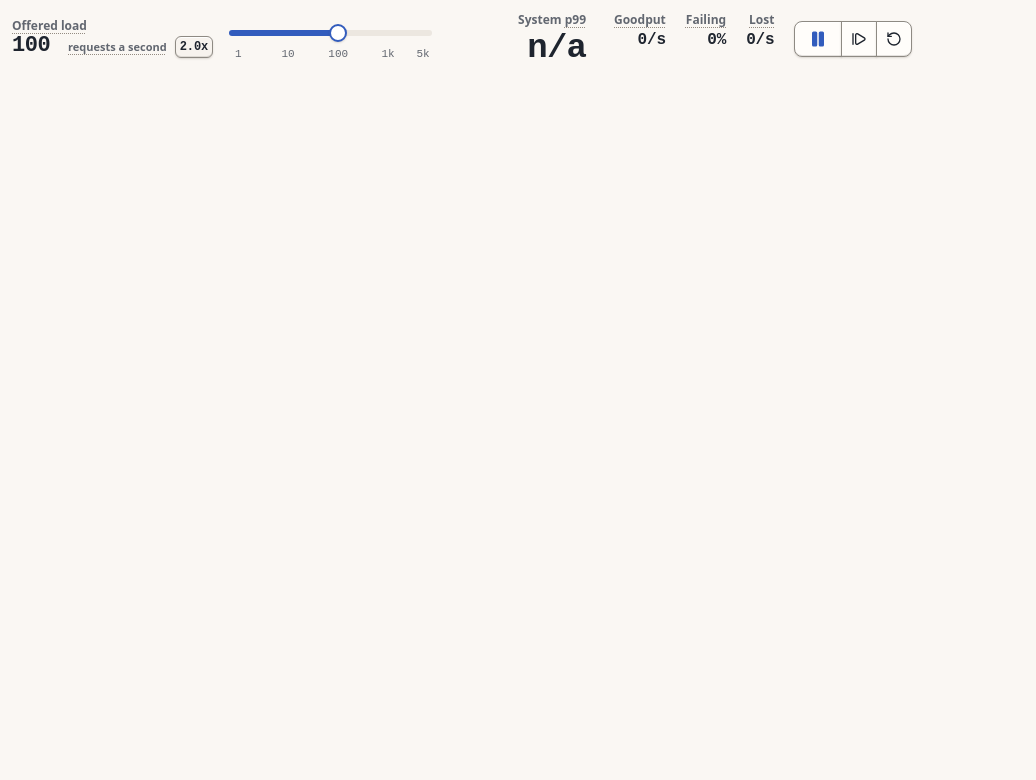
Test: load as a multiple › closes on a press outside, and on Escape
Click the button "2.0x": [194, 47] box [175,36,213,58]
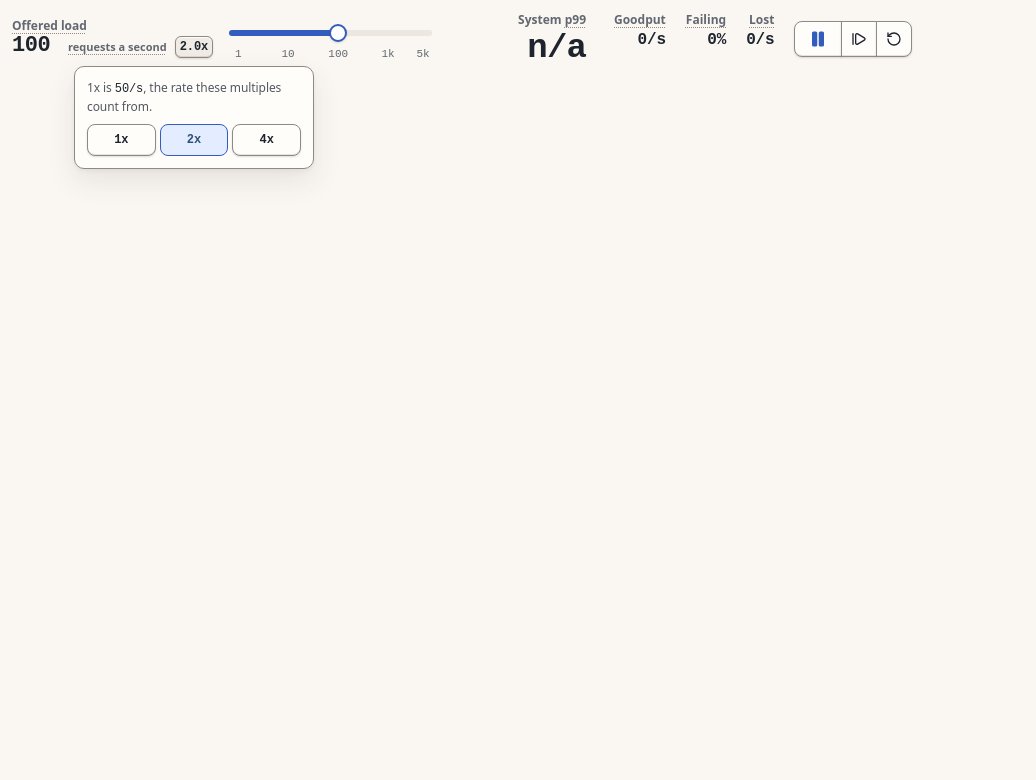
Press the mouse on the element that starts with "Offered load": [524, 396] box [12,12,1035,779]
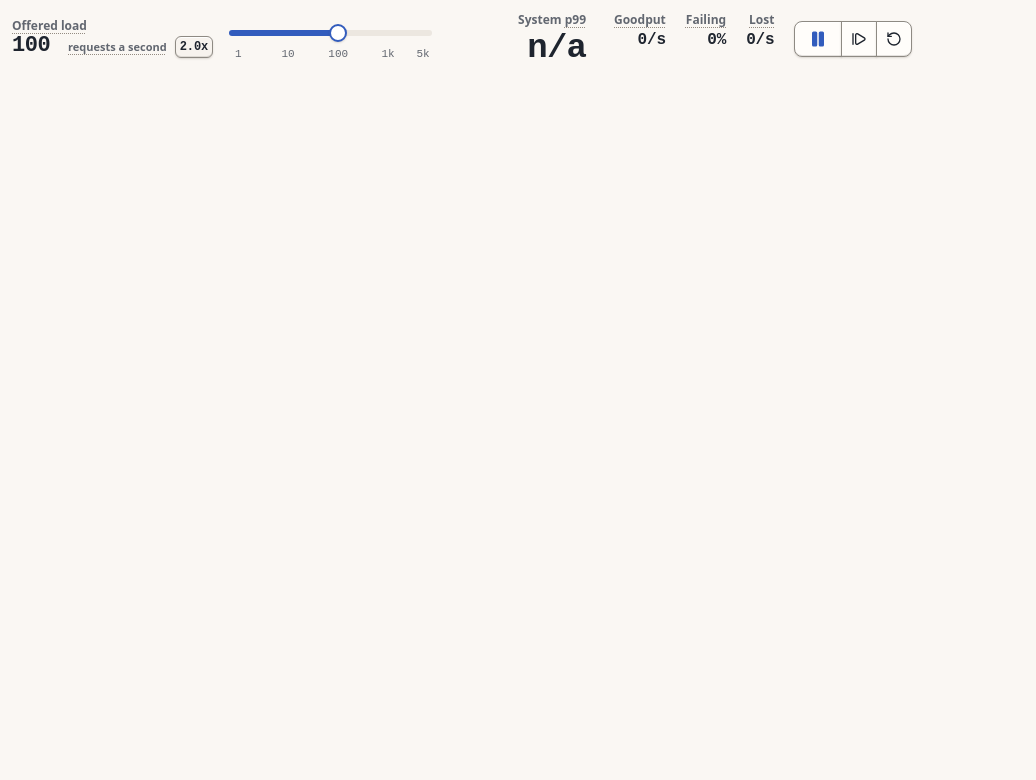
Check: the element with class "traffic-multiple-panel" is gone
Click the button "2.0x": [194, 47] box [175,36,213,58]
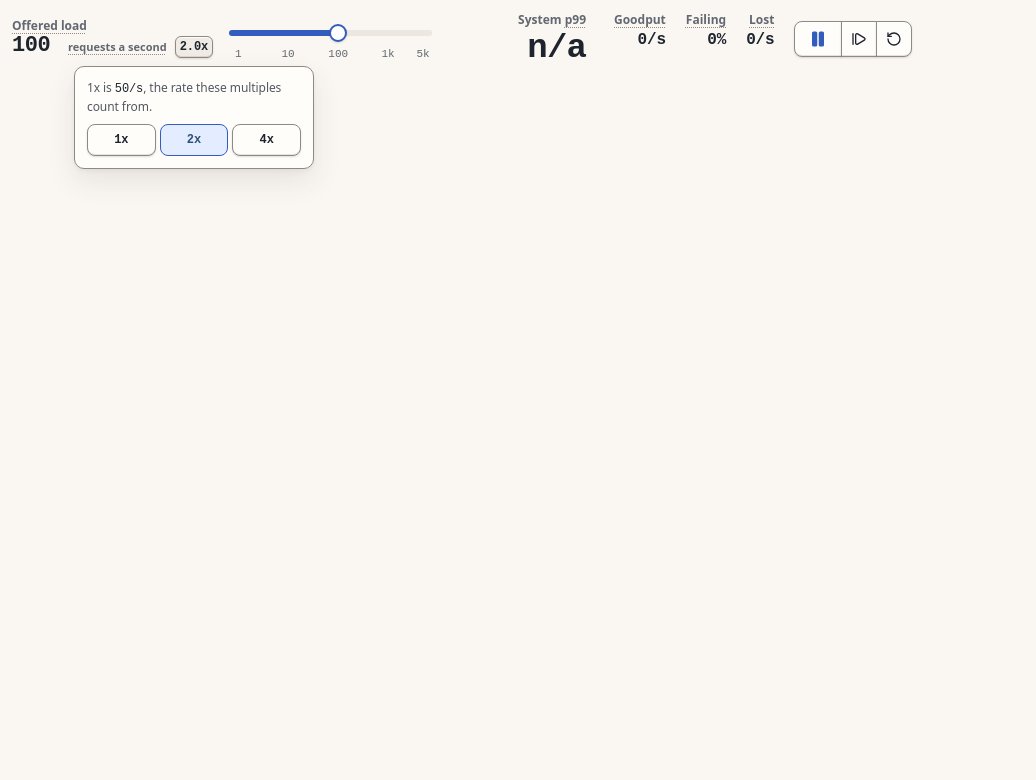
Press Escape in the button "1x", box [87,124,156,156]
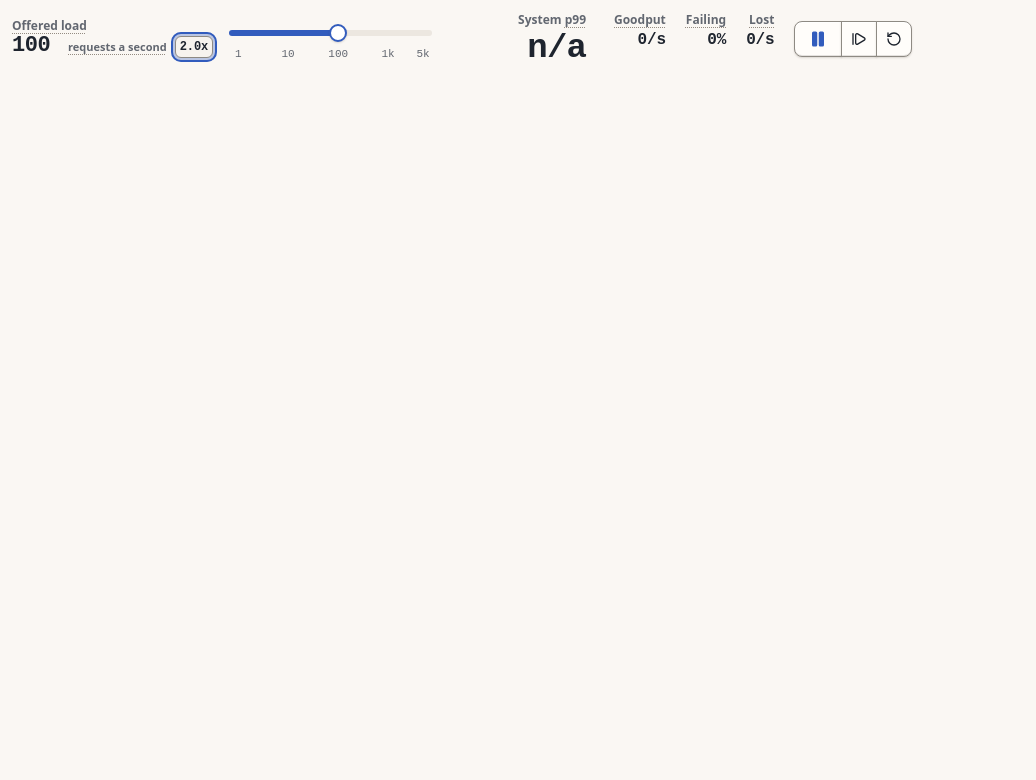
Check: the element with class "traffic-multiple-panel" is gone
